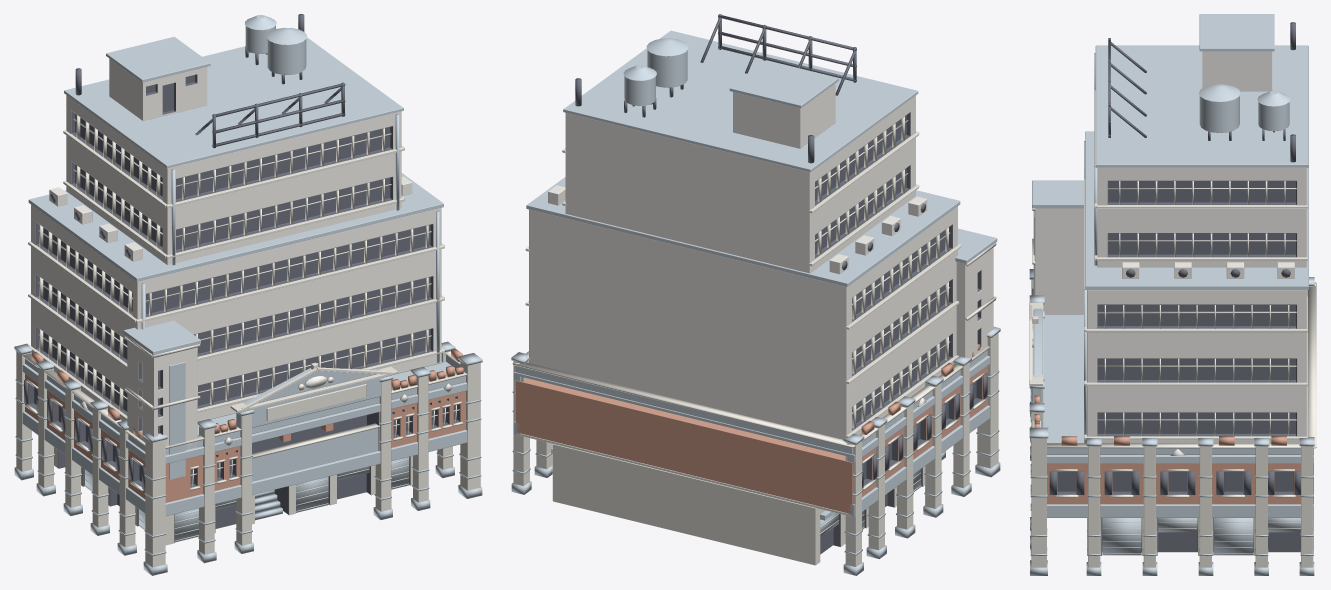
The model's file is yongle.glb.
The picture shows the model from 3 angles, left to right: view 1: azimuth 30°, elevation 25°; view 2: azimuth 150°, elevation 25°; view 3: azimuth 270°, elevation 25°; orthographic projection. The views are drawn at different scales.
Parts seen in each view (by area): view 1: main; view 2: main; view 3: main.
Boxes of the visible parts, box(x1,y1,x2,y2) form: main: box(14, 14, 482, 575); main: box(511, 14, 1000, 575); main: box(1029, 14, 1316, 575).
Size of the model in its own units: 22.56 by 27.65 by 16.46.
